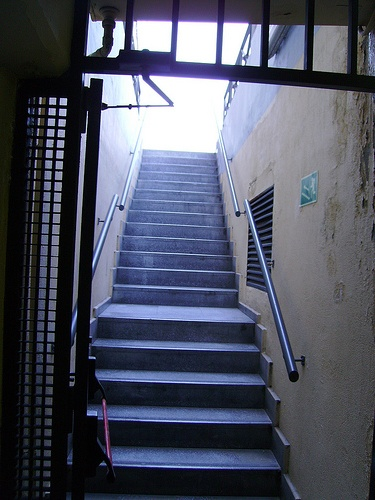stairs_up: (100, 150, 257, 487)
